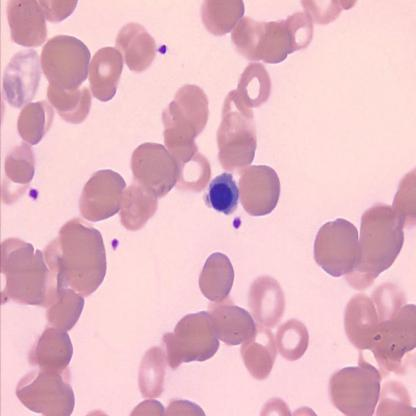NRC: (203, 167, 239, 219)
